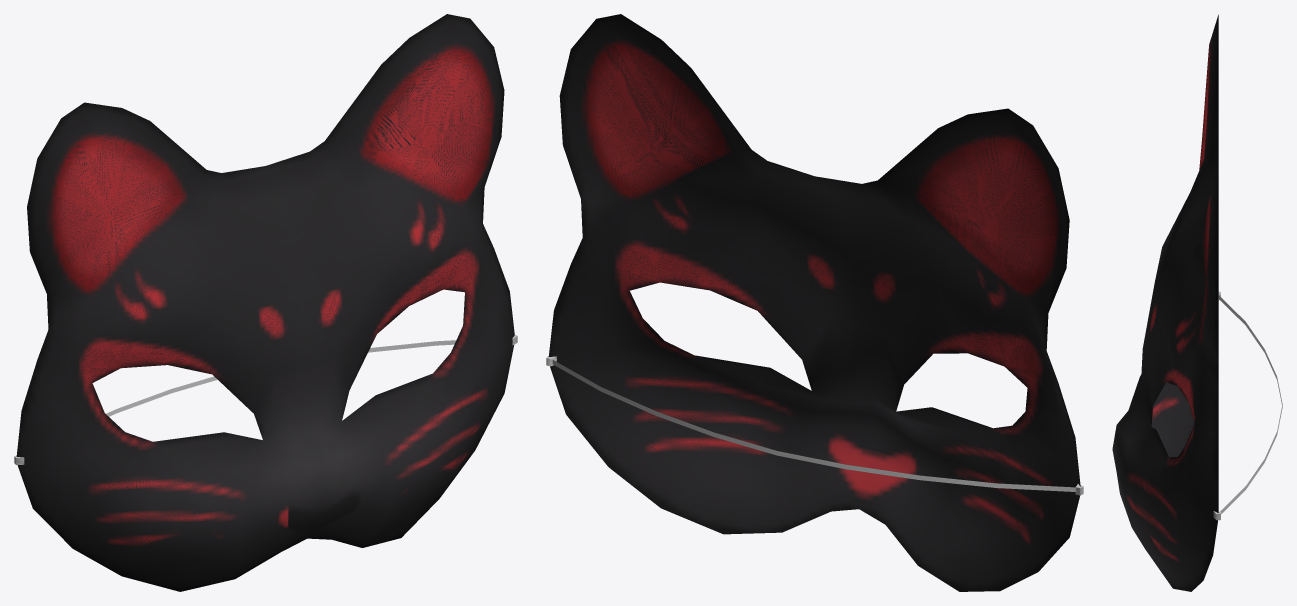
File: jsf_Mask_30.fbx
The picture shows the model from 3 angles, left to right: view 1: azimuth 30°, elevation 25°; view 2: azimuth 150°, elevation 25°; view 3: azimuth 270°, elevation 25°; orthographic projection. The views are drawn at different scales.
Parts seen in each view (by area): view 1: Mask_30, ElasticBand_30; view 2: Mask_30, ElasticBand_30; view 3: Mask_30, ElasticBand_30.
Boxes of the visible parts, x1,y1,x2,y2 form: Mask_30: [14, 14, 517, 591]; ElasticBand_30: [106, 340, 456, 416]; Mask_30: [546, 14, 1083, 591]; ElasticBand_30: [552, 360, 1075, 491]; Mask_30: [1112, 14, 1220, 591]; ElasticBand_30: [1219, 295, 1282, 513].
Bounding box in the file's own units: 23.29 × 21.67 × 7.52.
